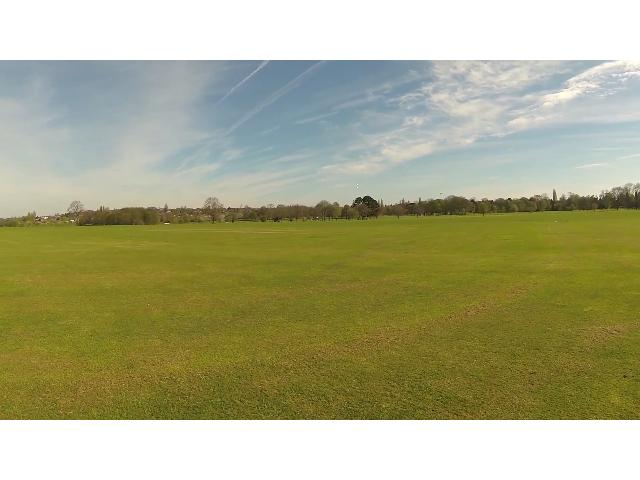Anti-Drone: (352, 179, 364, 190)
